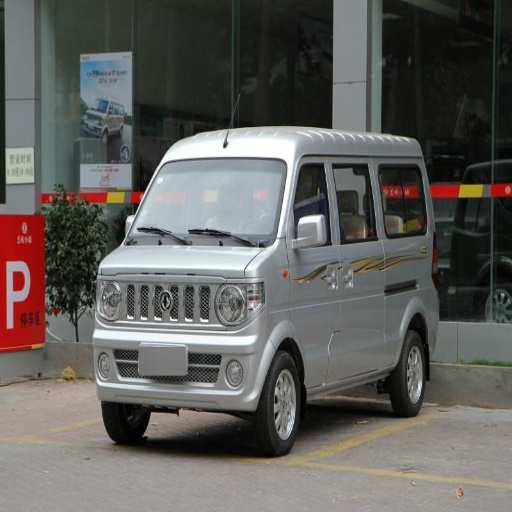front_bumper: (95, 275, 272, 406)
front_glass: (128, 159, 286, 246)
front_left_door: (290, 160, 365, 386)
trunk: (384, 256, 430, 343)
